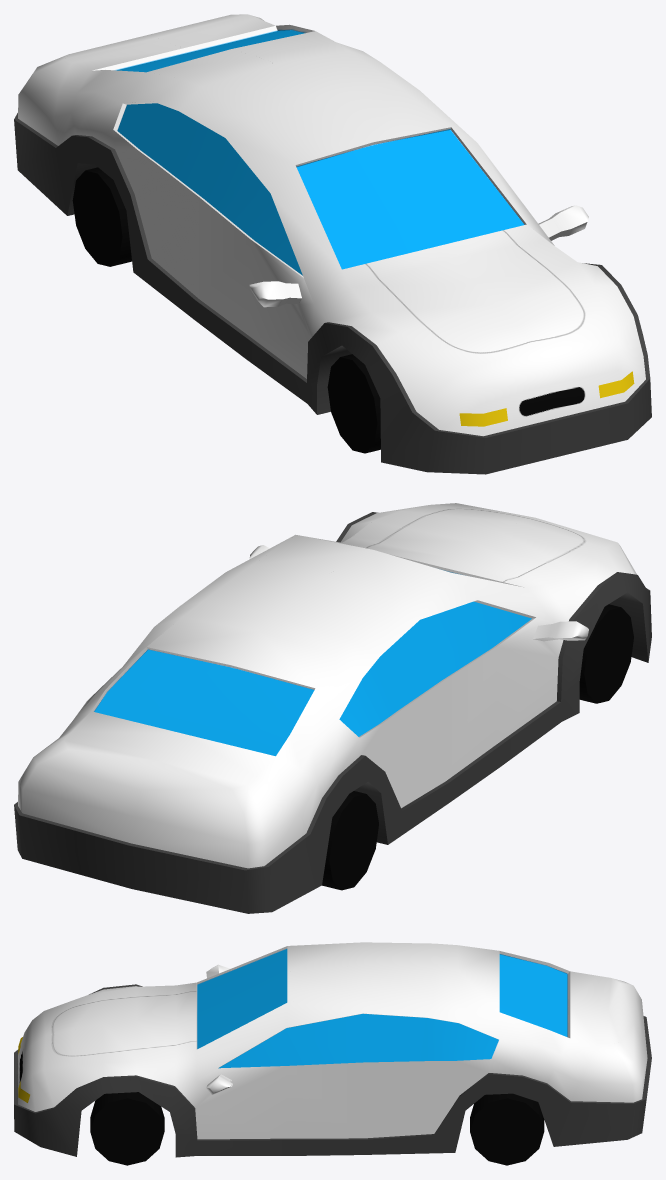
Rendered from Car2.fbx.
3 renders of one model, top to bottom at view 1: azimuth 30°, elevation 25°; view 2: azimuth 150°, elevation 25°; view 3: azimuth 270°, elevation 25°, orthographic. The views are drawn at different scales.
Visible parts, largest first — view 1: Car2; view 2: Car2; view 3: Car2.
Part boxes in pixels (<box>): Car2: <box>14,14,651,474</box>; Car2: <box>14,503,651,913</box>; Car2: <box>14,942,651,1165</box>.
Size of the model in its own units: 396 by 238 by 890.
Materials: 2 (2 with a texture image).
